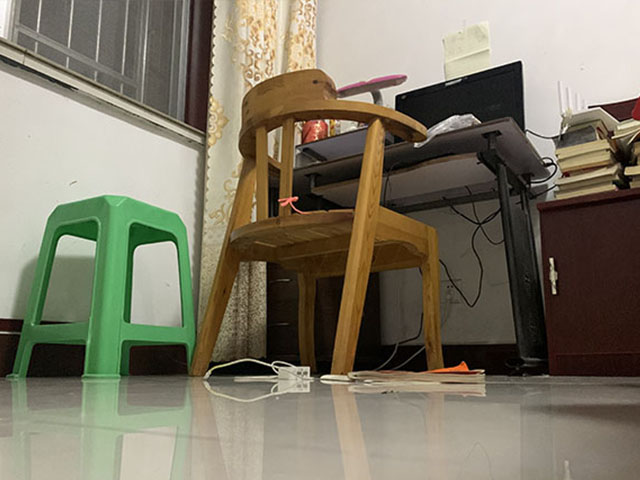book: (348, 359, 488, 386)
cabinet: (535, 187, 640, 379)
curtain: (197, 1, 270, 371)
stool: (186, 70, 445, 378), (6, 193, 199, 380)
table: (267, 118, 555, 370)
wire: (440, 188, 507, 308), (202, 356, 313, 383), (380, 323, 426, 369)
